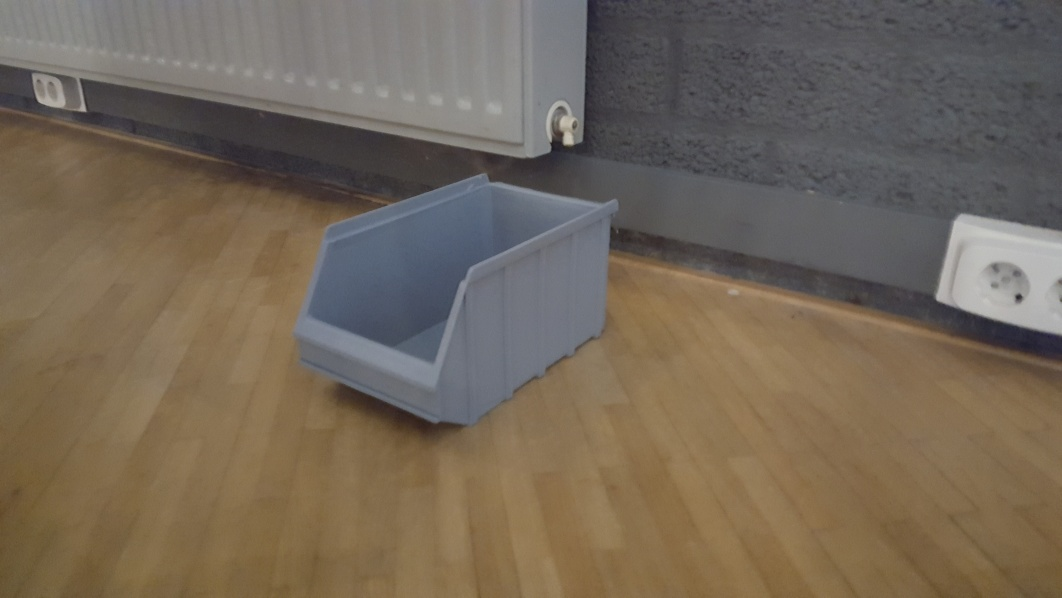tray: (296, 173, 619, 427)
